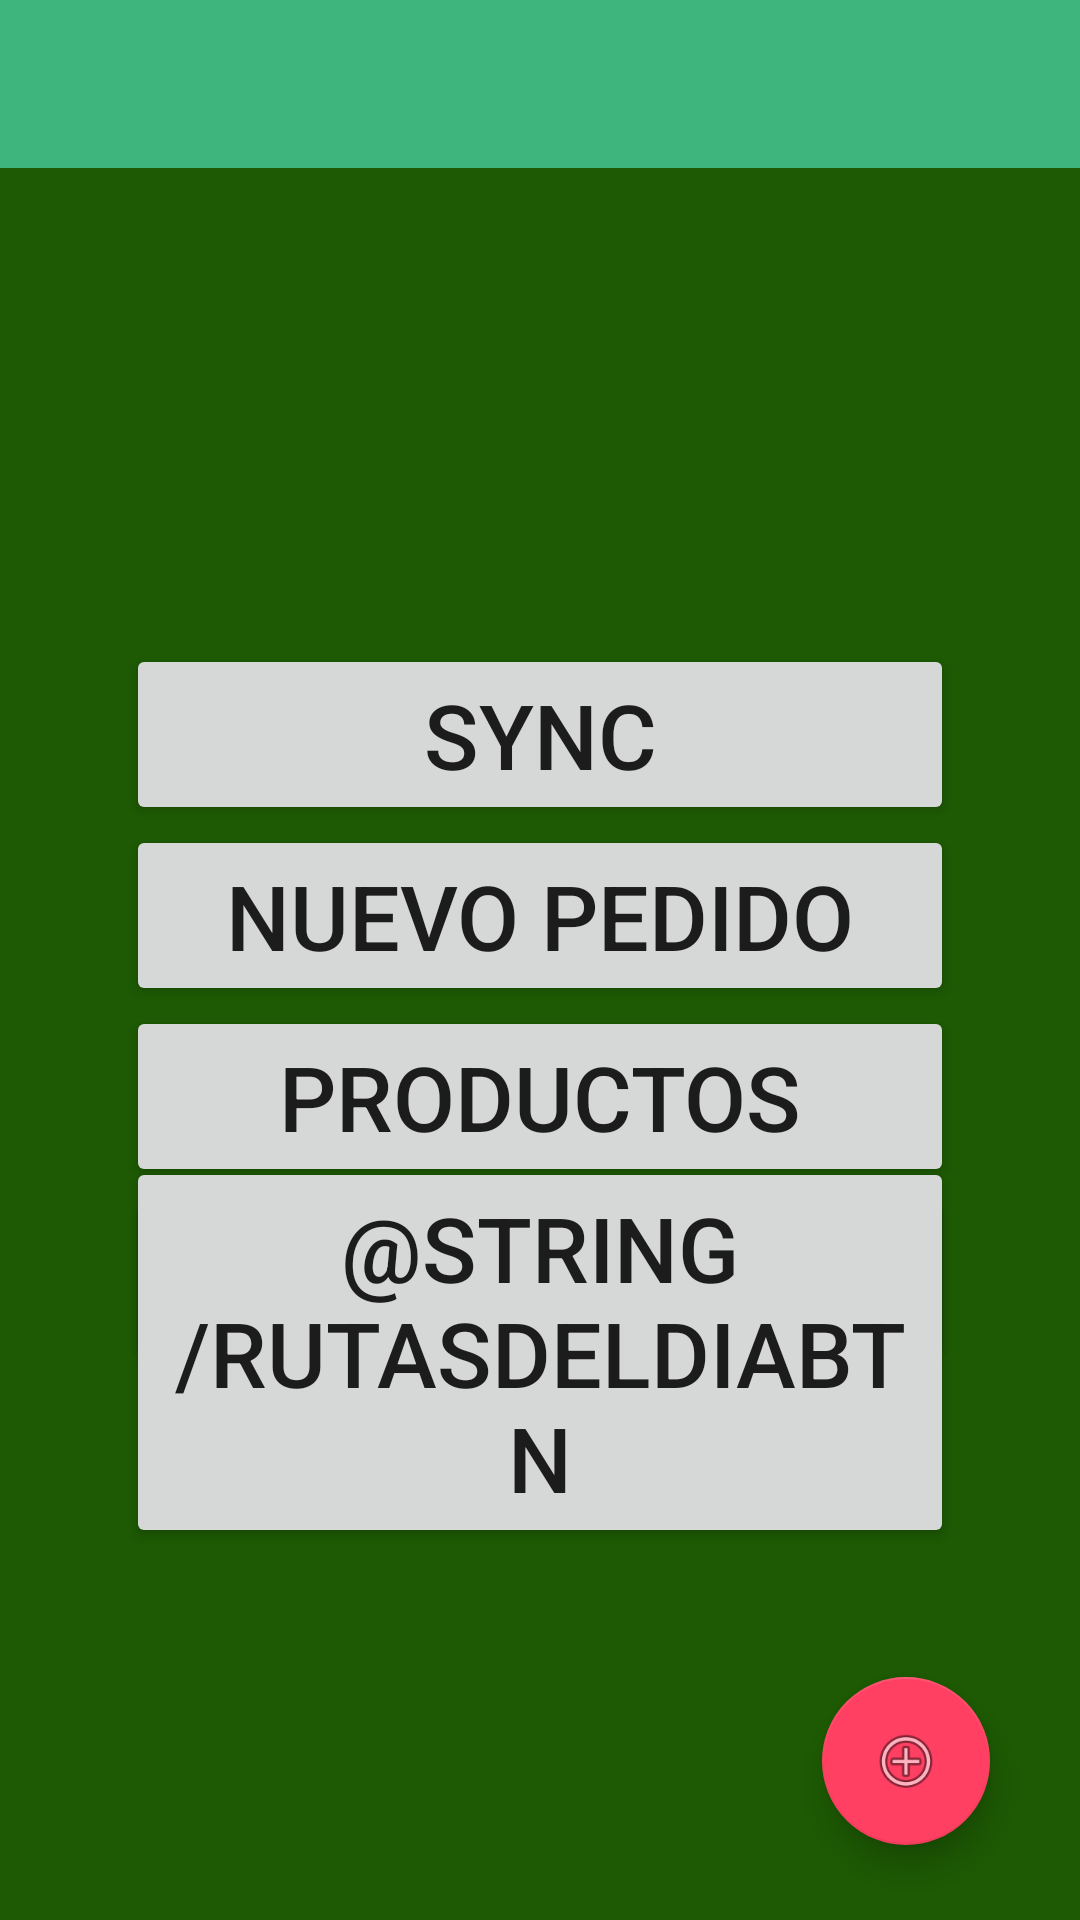

Icon bounding boxes for this 1080x1920 phone screenshot, format (x1, y1, x2, y2):
add: (822, 1677, 990, 1845)
